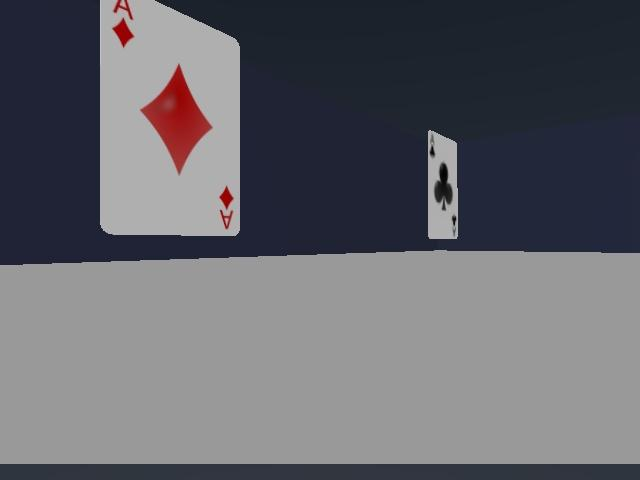club: (428, 131, 458, 239)
diamond: (100, 0, 239, 235)
